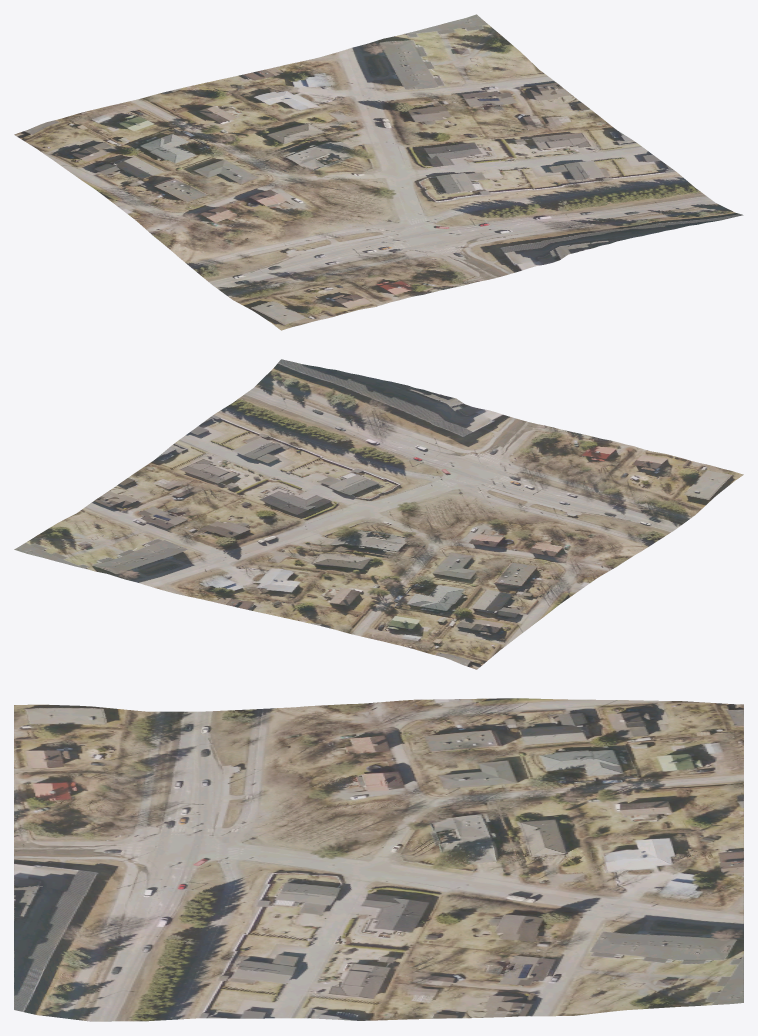
Rendered from CM_Terrain_24491278_6820408.fbx.
The picture shows the model from 3 angles, top to bottom: view 1: azimuth 30°, elevation 25°; view 2: azimuth 150°, elevation 25°; view 3: azimuth 270°, elevation 25°; orthographic projection. The views are drawn at different scales.
Visible parts, largest first — view 1: CM_Terrain_24491278_6820408_LOD0; view 2: CM_Terrain_24491278_6820408_LOD0; view 3: CM_Terrain_24491278_6820408_LOD0.
Boxes of the visible parts, x1,y1,x2,y2 form: CM_Terrain_24491278_6820408_LOD0: [14, 14, 743, 330]; CM_Terrain_24491278_6820408_LOD0: [14, 359, 743, 669]; CM_Terrain_24491278_6820408_LOD0: [14, 698, 743, 1021].
Size of what is drawn, in the model's own units: 205 by 5.84 by 205.
